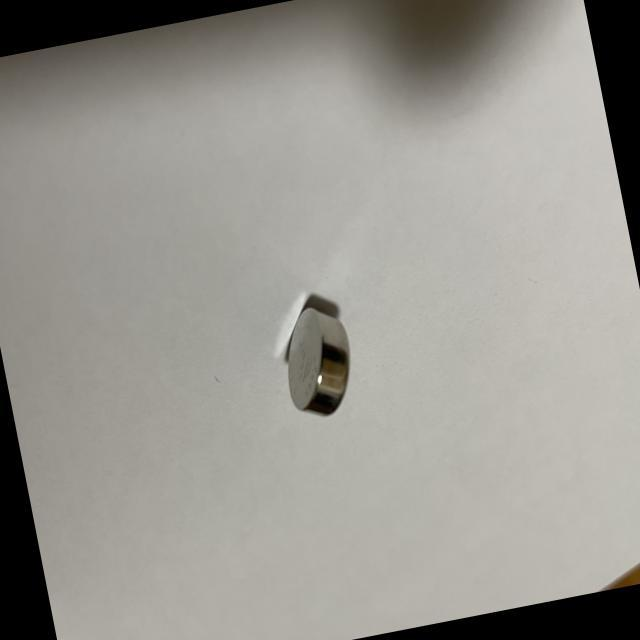COIN: (272, 299, 361, 426)
